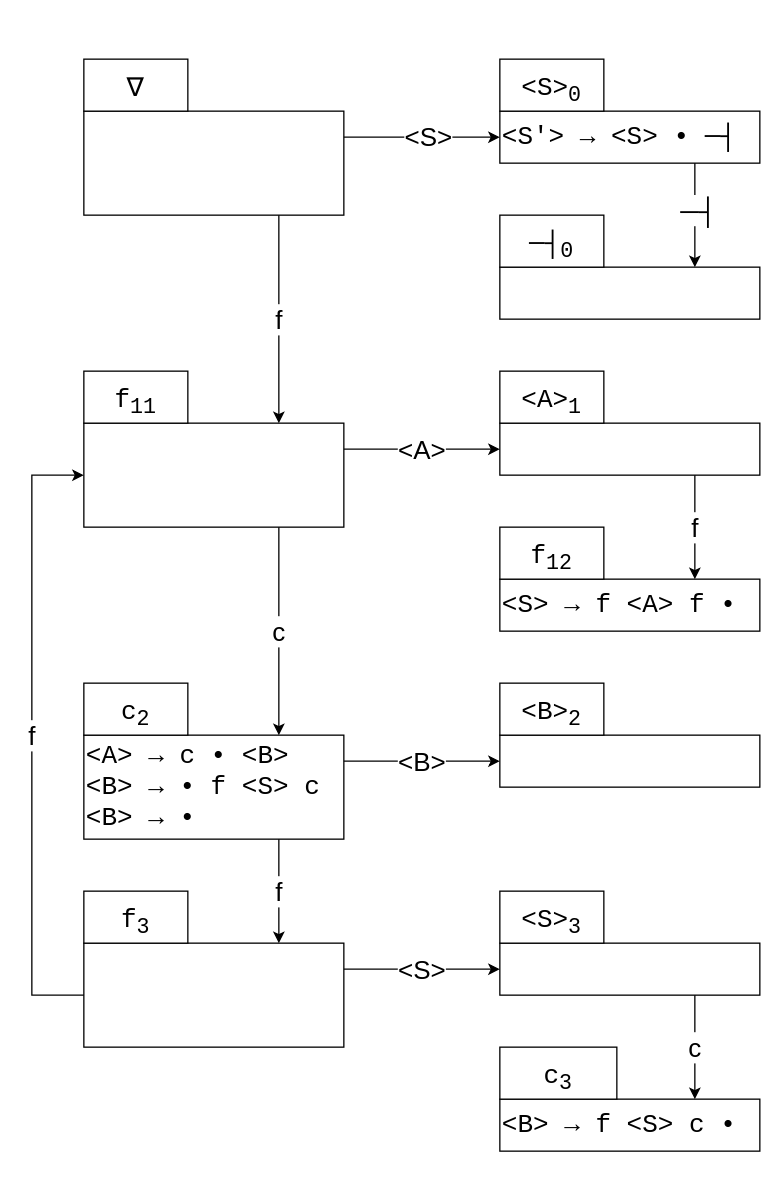
The diagram is 783 pixels wide and 1190 high, and some of its shapes have lost their labels. The shapes that lost their labels are listed below. From the top down, each one's box as (x1, y1, x2, y2) in pixels, then its label:
(83, 110, 344, 215): <S'> → • <S> ─┤ <S> → • f <A> f
(499, 266, 760, 319): <S'> → <S> ─┤ •
(499, 422, 760, 475): <S> → f <A> • f
(83, 422, 344, 527): <S> → f • <A> f <A> → • c <B>
(499, 734, 760, 787): <A> → c <B> •
(499, 942, 760, 995): <B> → f <S> • c
(83, 942, 344, 1047): <B> → f • <S> c <S> → • f <A> f
